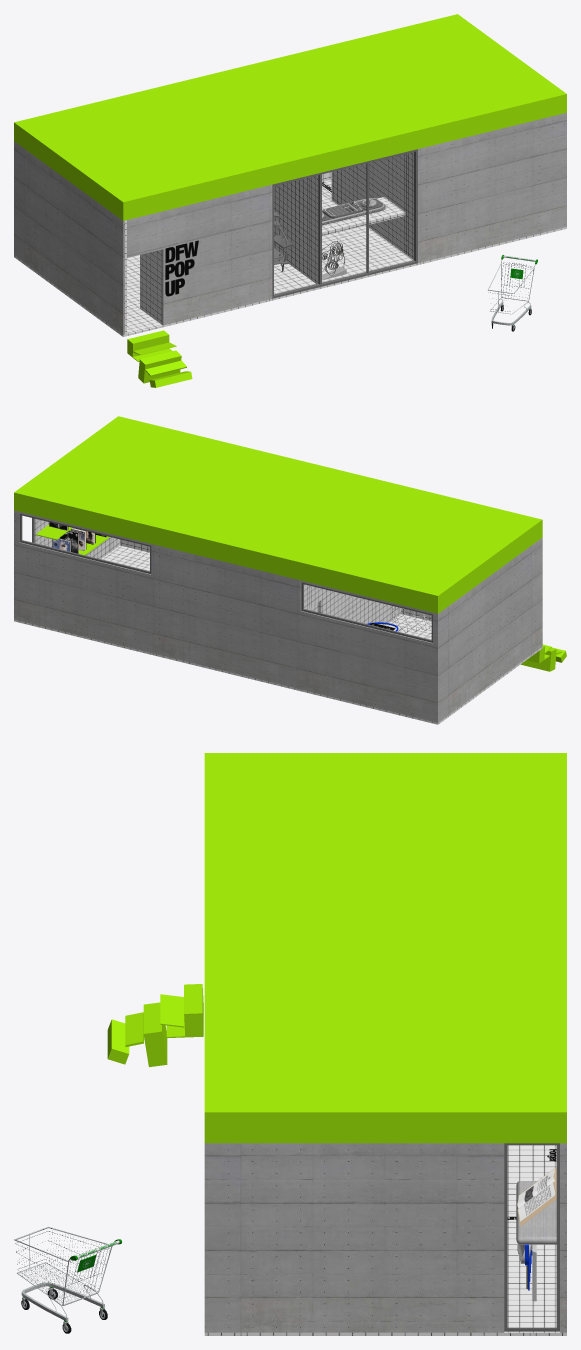
The model's file is popyp-v5.glb.
3 renders of one model, top to bottom at view 1: azimuth 30°, elevation 25°; view 2: azimuth 150°, elevation 25°; view 3: azimuth 270°, elevation 25°, orthographic. The views are drawn at different scales.
Visible parts, largest first — view 1: horlin-2024-, Mesh_101.001; view 2: horlin-2024-, Mesh_101.001; view 3: Mesh_101.001, horlin-2024-.
Part boxes in pixels (x1,y1,x2,y2): horlin-2024-: [14, 113, 566, 387]; Mesh_101.001: [14, 14, 566, 220]; horlin-2024-: [14, 510, 566, 724]; Mesh_101.001: [14, 416, 542, 613]; Mesh_101.001: [204, 753, 566, 1143]; horlin-2024-: [14, 984, 566, 1335].
Bounding box in the file's own units: 12.2 × 4.5 × 7.94.
22 materials, 14 textured.
